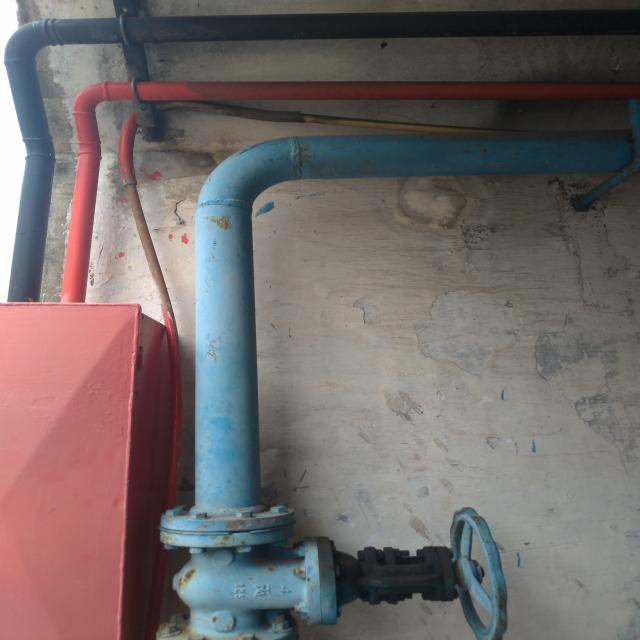gas: (163, 138, 302, 640), (0, 8, 640, 68), (193, 129, 640, 201), (65, 80, 640, 110), (0, 22, 49, 305), (64, 85, 115, 300)
